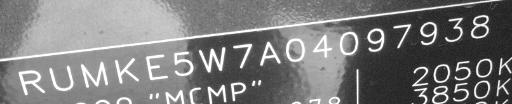letter: (77, 59, 111, 88), (14, 66, 48, 95), (198, 42, 228, 72), (112, 55, 142, 84), (142, 50, 170, 80), (256, 36, 284, 66), (227, 39, 255, 69), (414, 16, 442, 45), (466, 7, 492, 38), (170, 46, 196, 76), (388, 18, 414, 47), (46, 64, 76, 89), (334, 25, 360, 53), (308, 29, 334, 57), (361, 23, 387, 50), (442, 12, 466, 41), (284, 33, 308, 61)
